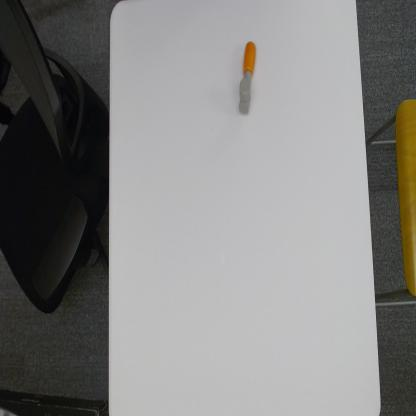Hammer: (239, 41, 256, 114)
